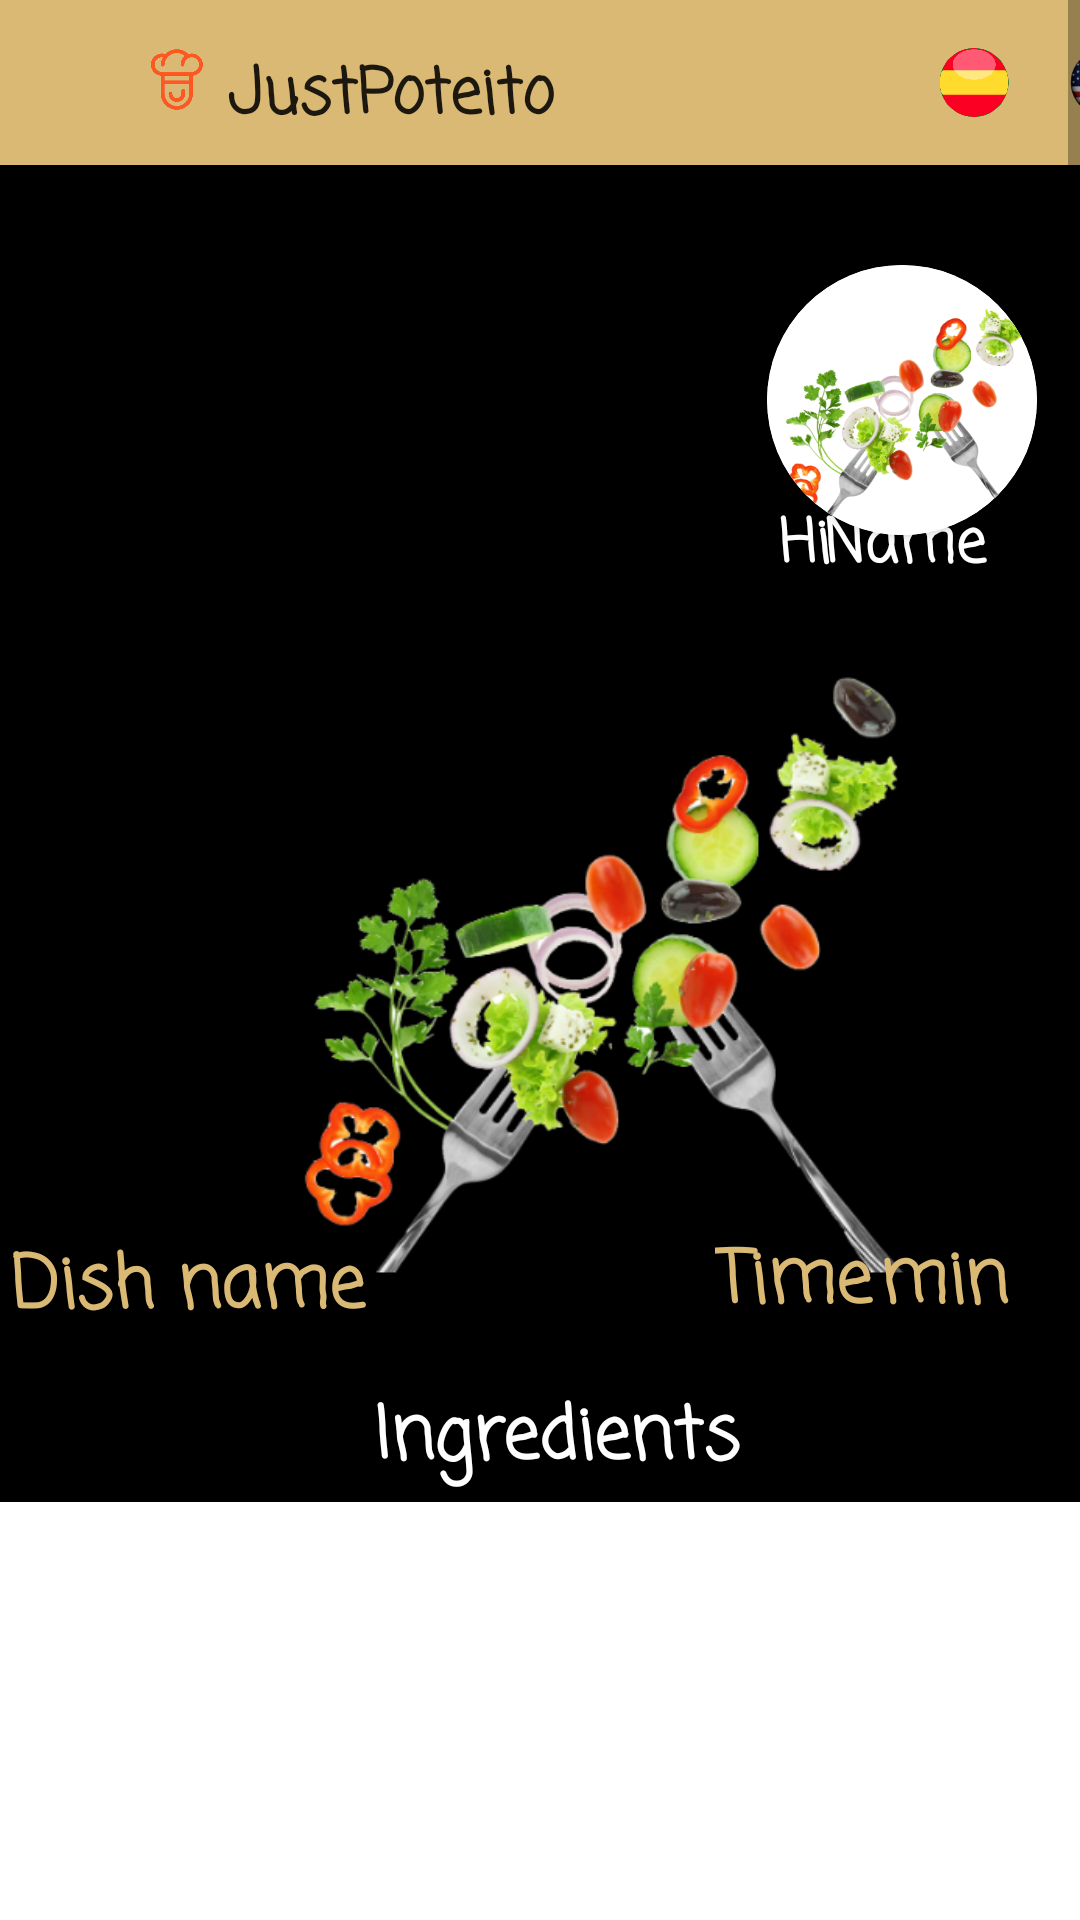

Screen size 1080px x 1920px. Icon name, then its box in pixels as (x1, y1, x2, y2):
spanish: (940, 48, 1009, 117)
